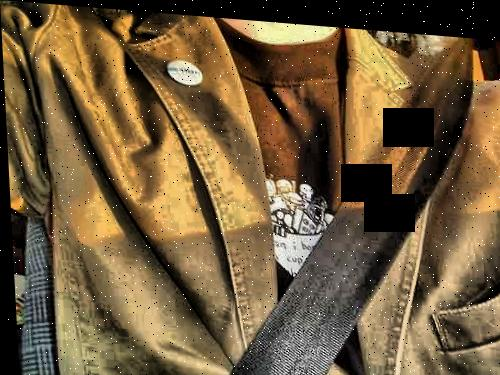seatbelt: (228, 62, 499, 371)
